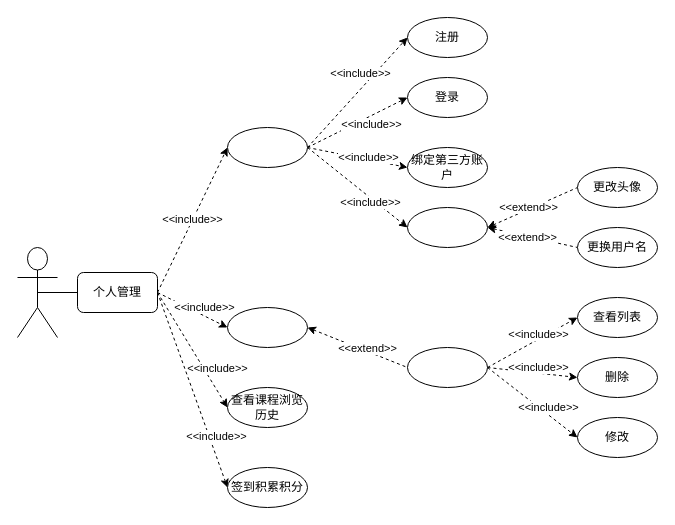
Image size: 675x525. Some labels were removed from this diagram. Here are the shapes that lost their labels. From the top down, the box of each, then its label:
(226, 126, 308, 168): 账户管理
(406, 206, 488, 248): 更改用户信息
(16, 246, 58, 338): 用户
(226, 306, 308, 348): 发布课程
(406, 346, 488, 388): 管理已发布课程
